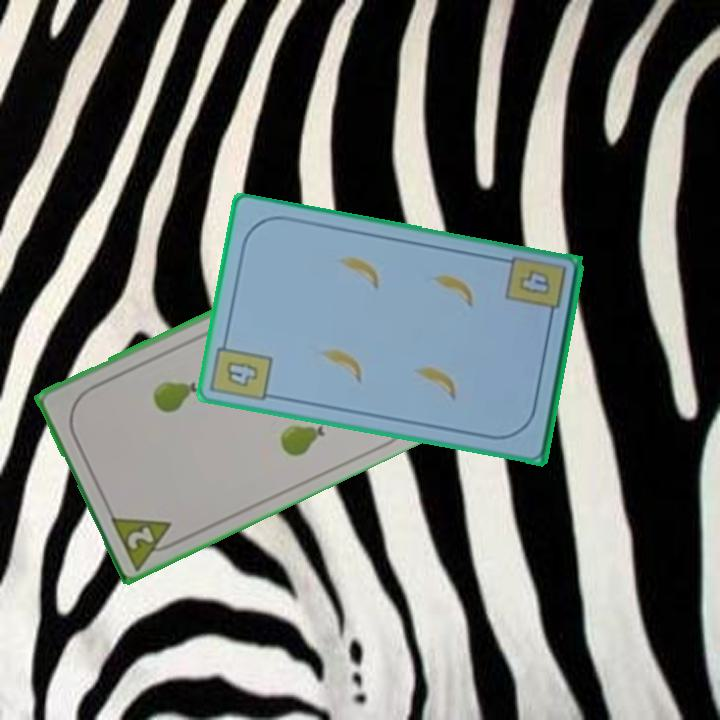2p: (106, 511, 185, 571)
4b: (209, 333, 275, 404), (514, 266, 553, 299)
